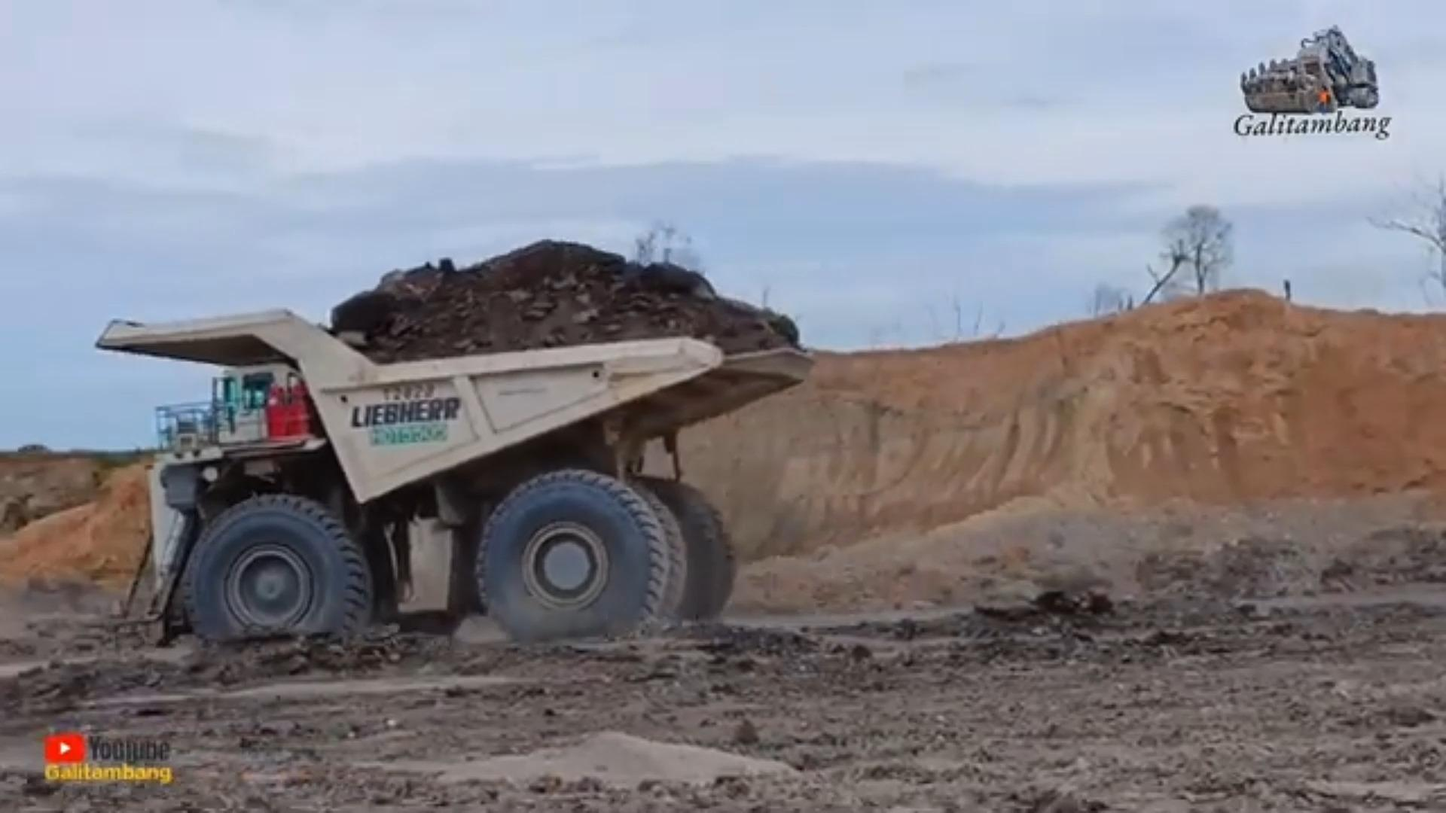HD-Truck: (96, 309, 813, 641)
